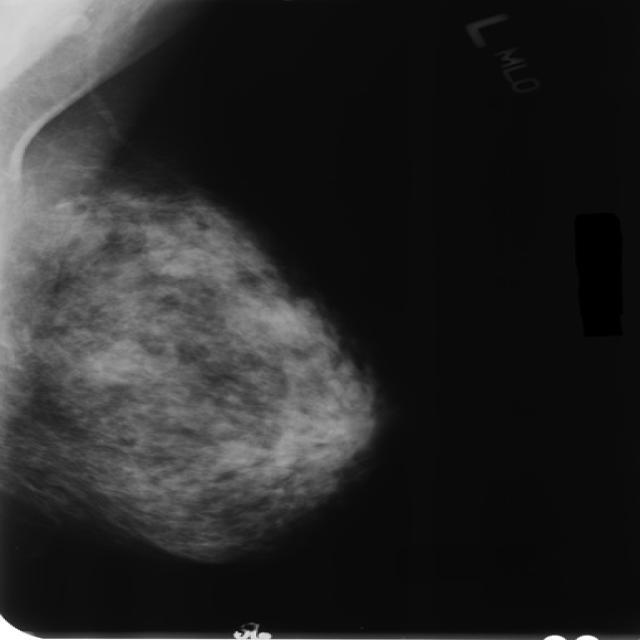tumour: (90, 336, 136, 378)
